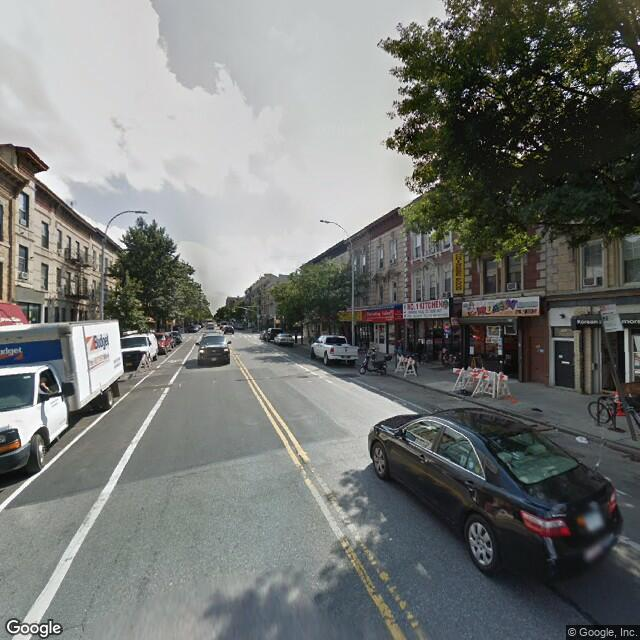litter: (576, 434, 590, 447)
